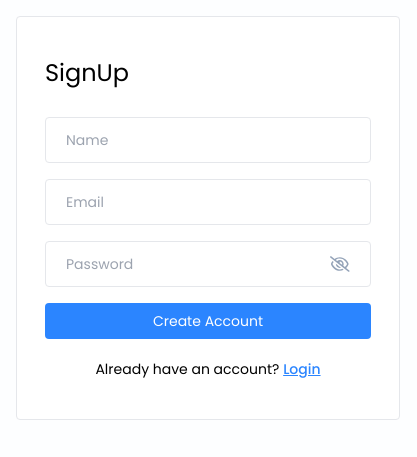
Test case: SignUp Component › shows error if password is empty
Step 1. Type "Test User" into the field with placeholder "Name" → (208, 140), box [45,117,371,163]
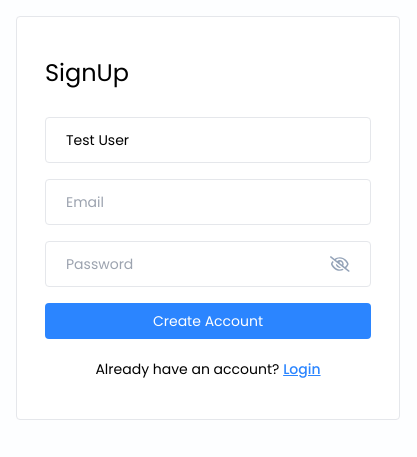
Step 2. Type "test@example.com" into the field with placeholder "Email" → (208, 202), box [45,179,371,225]
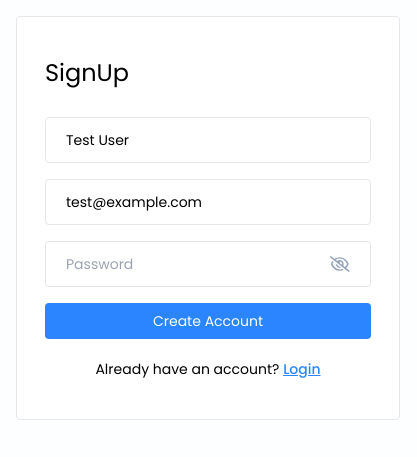
Step 3. Click the button "Create Account" → (208, 321), box [45,303,371,339]
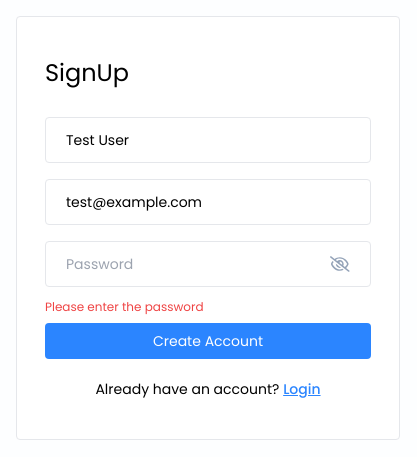
expect the text "Please enter the password" is shown: met, box [45,298,204,315]
